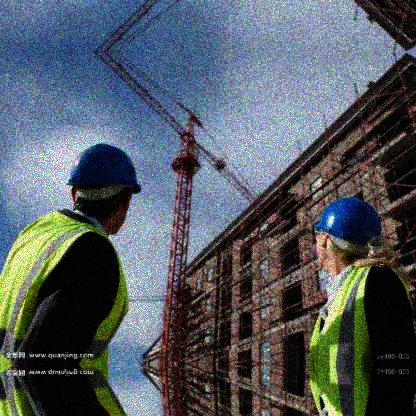helmet: (68, 143, 139, 234), (312, 196, 386, 266)
